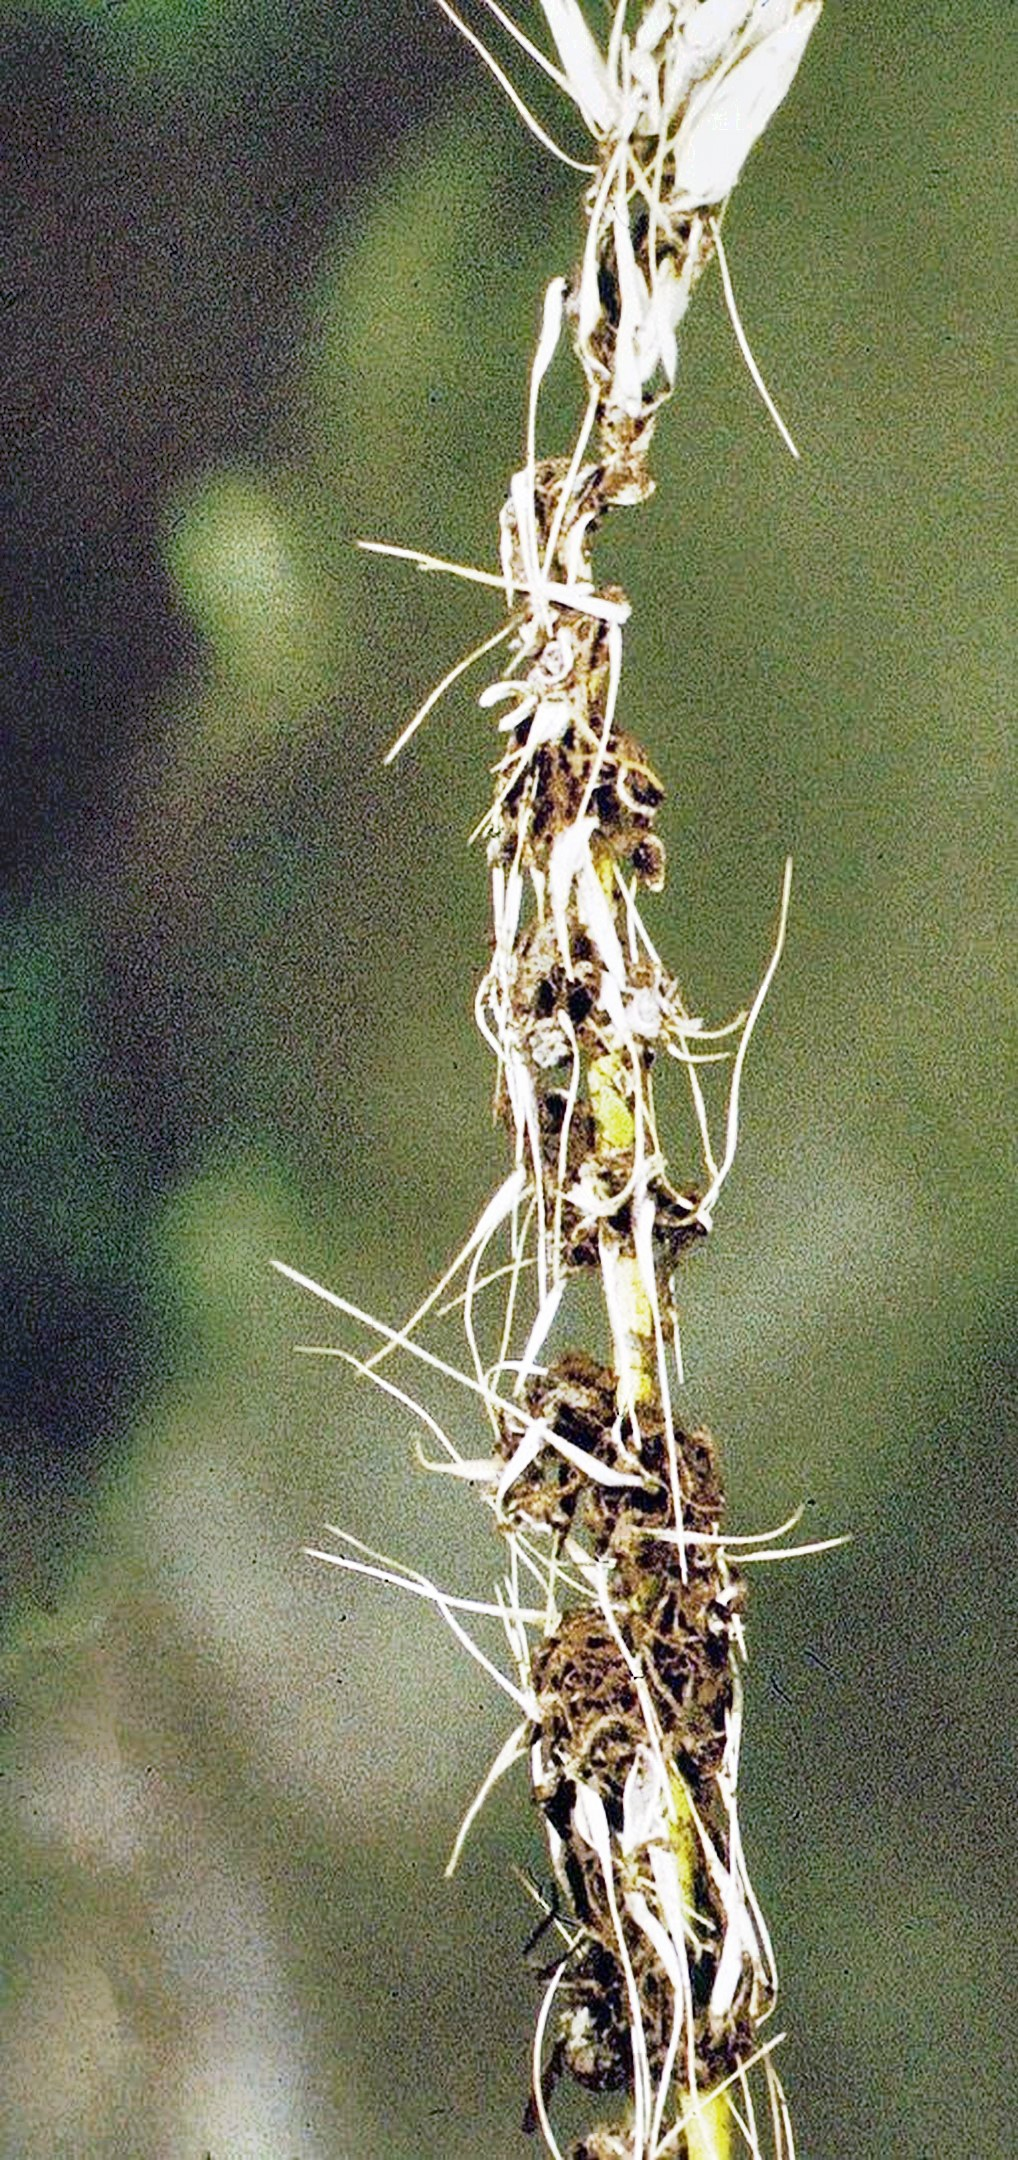Wheat Loose Smut: (371, 236, 854, 2029)
